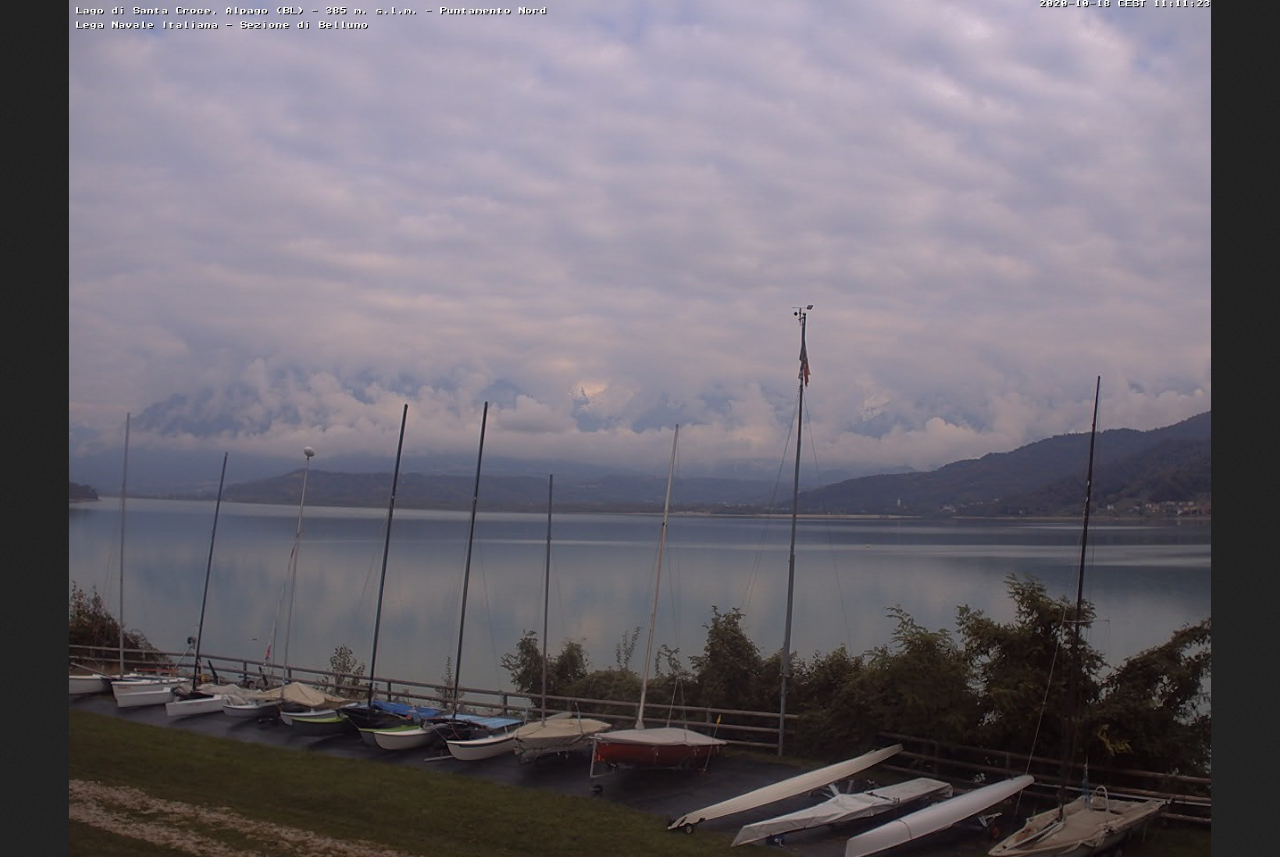no: (793, 313, 813, 388)
